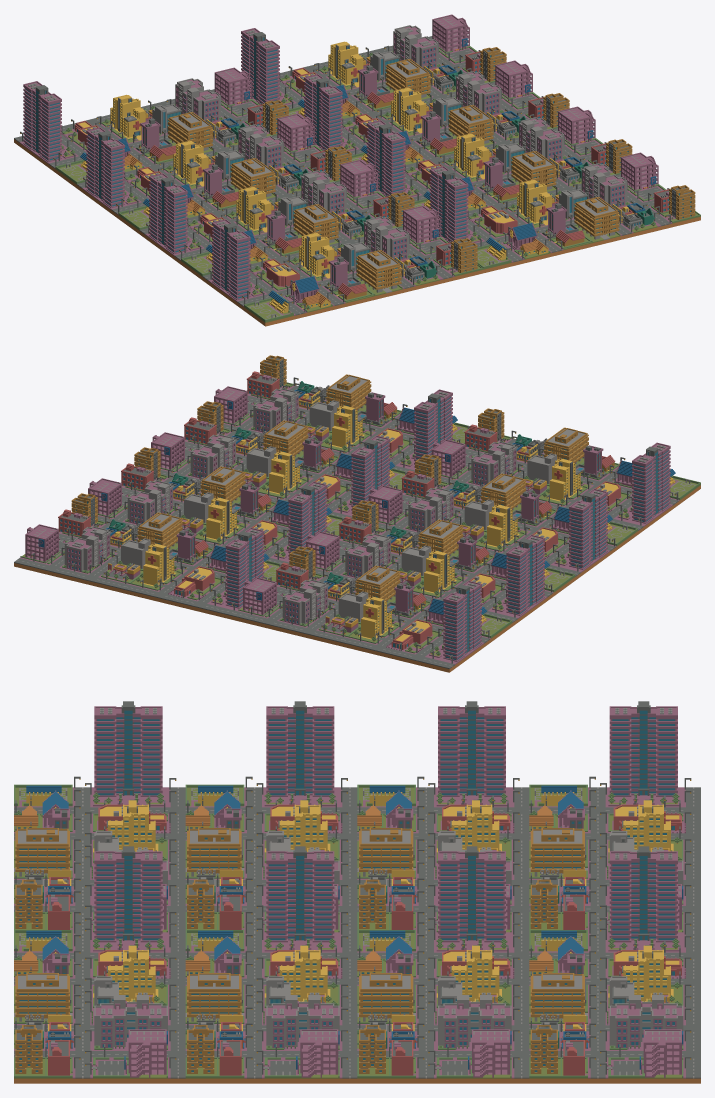
Rendered from voxel-city-v1.glb.
3 renders of one model, top to bottom at view 1: azimuth 30°, elevation 25°; view 2: azimuth 150°, elevation 25°; view 3: azimuth 270°, elevation 25°, orthographic. The views are drawn at different scales.
Visible parts, largest first — view 1: City_015_palette_0, City_016_palette_0, City_009_palette_0, City_012_palette_0, City_007_palette_0, City_014_palette_0, City_008_palette_0, City_006_palette_0, City_005_palette_0, City_003_palette_0, City_010_palette_0, City_2_palette_0 (+4 smaller); view 2: City_007_palette_0, City_006_palette_0, City_003_palette_0, City_004_palette_0, City_008_palette_0, City_015_palette_0, City_014_palette_0, City_010_palette_0, City_2_palette_0, City_009_palette_0, City_013_palette_0, City_005_palette_0 (+4 smaller); view 3: City_2_palette_0, City_010_palette_0, City_003_palette_0, City_009_palette_0, City_011_palette_0, City_016_palette_0, City_004_palette_0, City_1_palette_0, City_014_palette_0, City_015_palette_0, City_007_palette_0, City_008_palette_0 (+4 smaller).
Boxes of the visible parts, left/top/right/bottom form: City_015_palette_0: left=202, top=219, right=374, bottom=326; City_016_palette_0: left=429, top=166, right=591, bottom=273; City_009_palette_0: left=547, top=152, right=700, bottom=246; City_012_palette_0: left=329, top=205, right=483, bottom=299; City_007_palette_0: left=14, top=81, right=175, bottom=188; City_014_palette_0: left=139, top=173, right=301, bottom=280; City_008_palette_0: left=77, top=127, right=238, bottom=233; City_006_palette_0: left=141, top=67, right=288, bottom=152; City_005_palette_0: left=204, top=113, right=351, bottom=198; City_003_palette_0: left=359, top=14, right=506, bottom=99; City_010_palette_0: left=484, top=106, right=632, bottom=191; City_2_palette_0: left=421, top=60, right=569, bottom=145; City_007_palette_0: left=340, top=580, right=512, bottom=672; City_006_palette_0: left=231, top=546, right=400, bottom=645; City_003_palette_0: left=14, top=493, right=182, bottom=592; City_004_palette_0: left=123, top=527, right=281, bottom=619; City_008_palette_0: left=413, top=534, right=575, bottom=626; City_015_palette_0: left=539, top=442, right=700, bottom=534; City_014_palette_0: left=476, top=488, right=637, bottom=580; City_010_palette_0: left=151, top=401, right=308, bottom=487; City_2_palette_0: left=88, top=447, right=245, bottom=533; City_009_palette_0: left=214, top=355, right=371, bottom=441; City_013_palette_0: left=368, top=454, right=525, bottom=540; City_005_palette_0: left=306, top=500, right=463, bottom=586; City_2_palette_0: left=357, top=973, right=529, bottom=1083; City_010_palette_0: left=185, top=973, right=357, bottom=1083; City_003_palette_0: left=529, top=973, right=700, bottom=1083; City_009_palette_0: left=14, top=973, right=185, bottom=1083; City_011_palette_0: left=185, top=846, right=357, bottom=1004; City_016_palette_0: left=14, top=846, right=185, bottom=1004; City_004_palette_0: left=529, top=846, right=700, bottom=1004; City_1_palette_0: left=357, top=846, right=529, bottom=1004; City_014_palette_0: left=185, top=701, right=357, bottom=859; City_015_palette_0: left=14, top=701, right=185, bottom=859; City_007_palette_0: left=529, top=701, right=700, bottom=859; City_008_palette_0: left=357, top=701, right=529, bottom=859.
Size of the model in its own units: 252 by 38 by 252.
2 materials, 2 textured.
